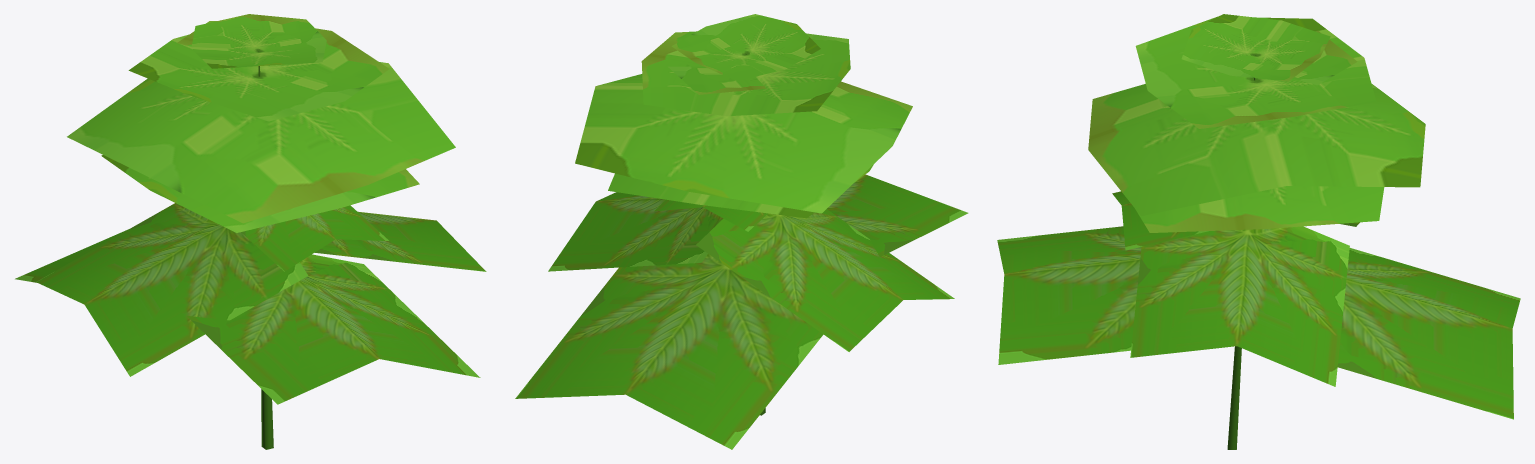
Rendered from CannabisStage02_03.fbx.
3 views of the same model, side by side, from view 1: azimuth 30°, elevation 25°; view 2: azimuth 150°, elevation 25°; view 3: azimuth 270°, elevation 25° (orthographic). The views are drawn at different scales.
Visible parts, largest first — view 1: CannabisStage02_03_LOD0; view 2: CannabisStage02_03_LOD0; view 3: CannabisStage02_03_LOD0.
Boxes of the visible parts, x1,y1,x2,y2 form: CannabisStage02_03_LOD0: [15, 14, 486, 449]; CannabisStage02_03_LOD0: [515, 14, 968, 449]; CannabisStage02_03_LOD0: [997, 14, 1520, 449].
Size of what is drawn, in the model's own units: 48.08 by 53.36 by 61.93.
